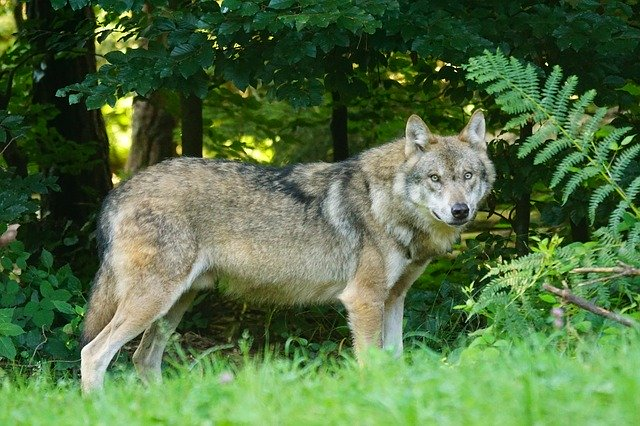Lobo: (74, 95, 515, 391)
